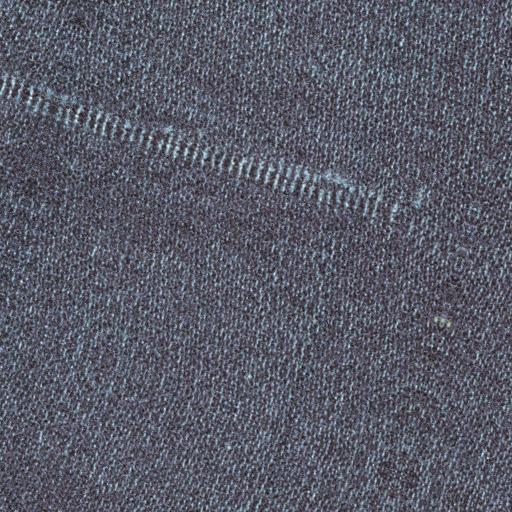slub: (1, 58, 411, 232)
